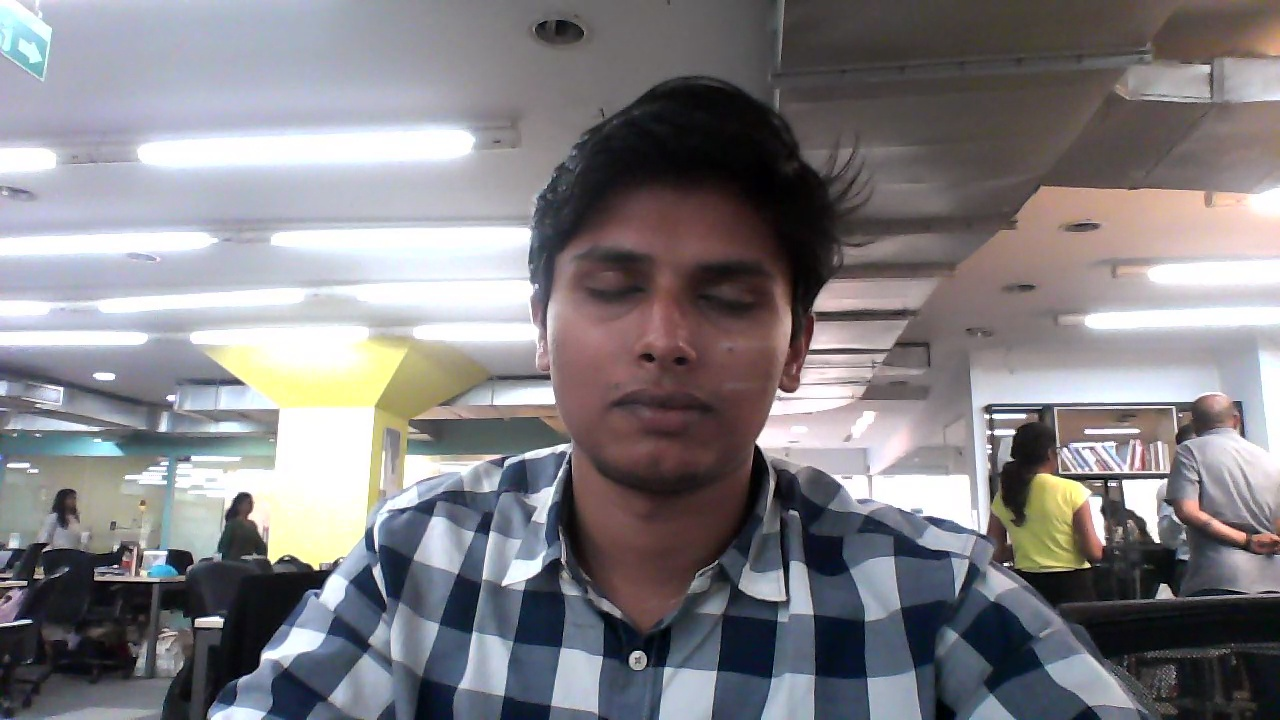closed: (525, 85, 824, 497)
